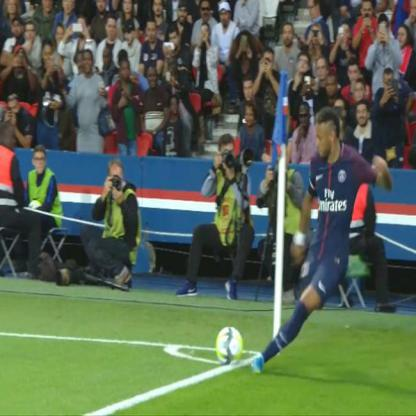corner kick: (184, 54, 395, 384)
